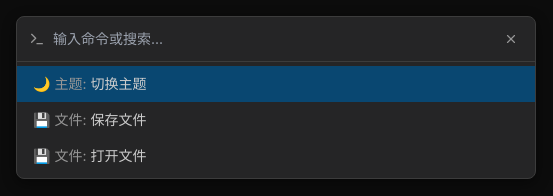
CommandPalette › 输入搜索词过滤命令
The image size is (553, 196).
In the field with placeholder "输入命令或搜索...": (272, 39) [53,29,491,49], type "主题"
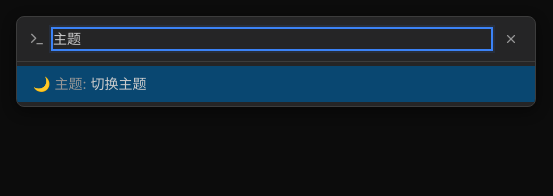
Expected: the text "切换主题" is shown, [90,75,146,92]
Now the text "保存文件" is gone
